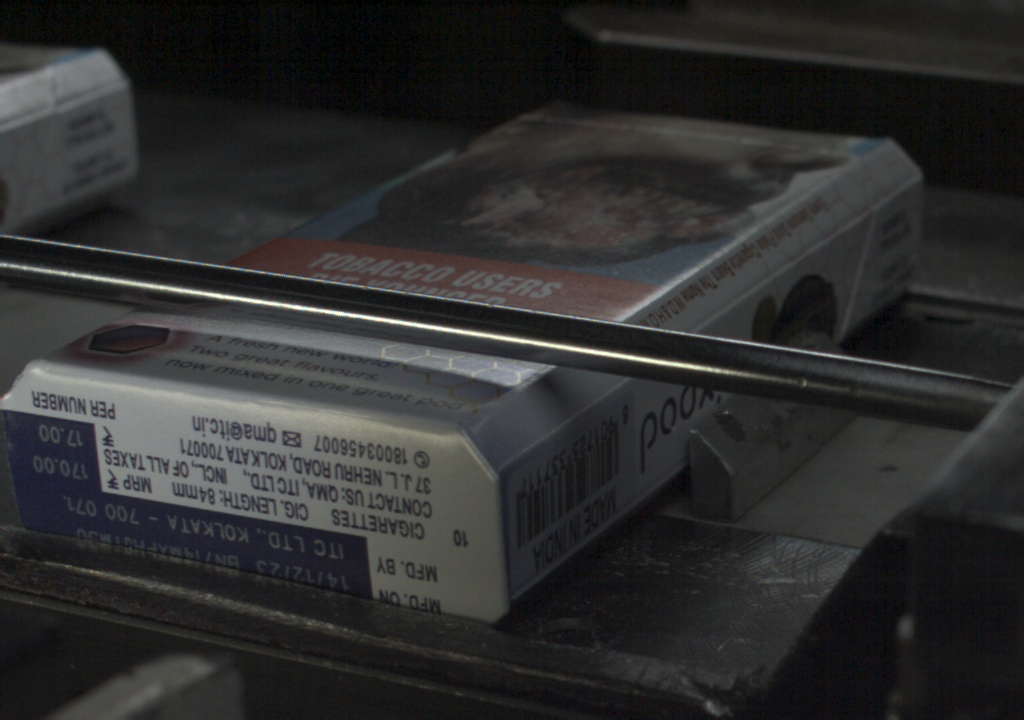g_bottom: (2, 362, 496, 625)
g_label: (11, 485, 369, 597)
g_lmiter: (694, 268, 786, 329), (786, 207, 871, 266), (500, 423, 566, 473), (566, 381, 627, 423)
g_miter: (874, 170, 929, 206)
price: (4, 417, 102, 487)
